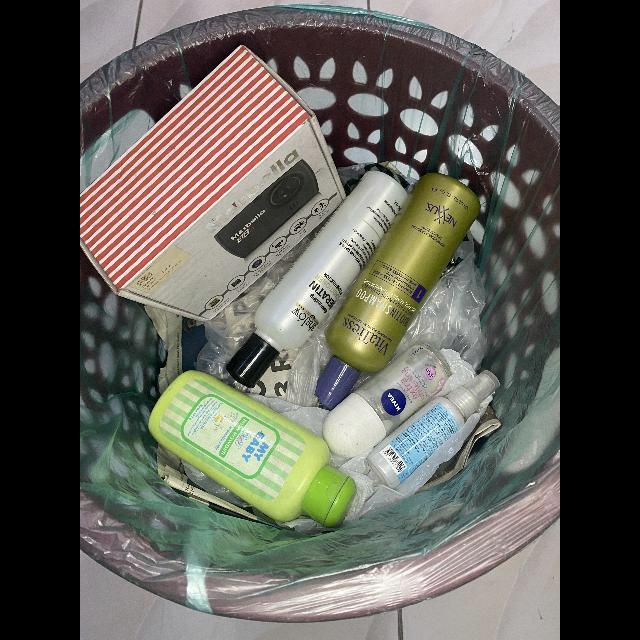cardboard: (80, 46, 347, 323)
glass_bottle: (322, 342, 453, 458)
plastic_bag: (394, 231, 487, 372)
plastic_container: (226, 170, 411, 390), (315, 173, 481, 411), (147, 370, 356, 528), (365, 370, 500, 489)
